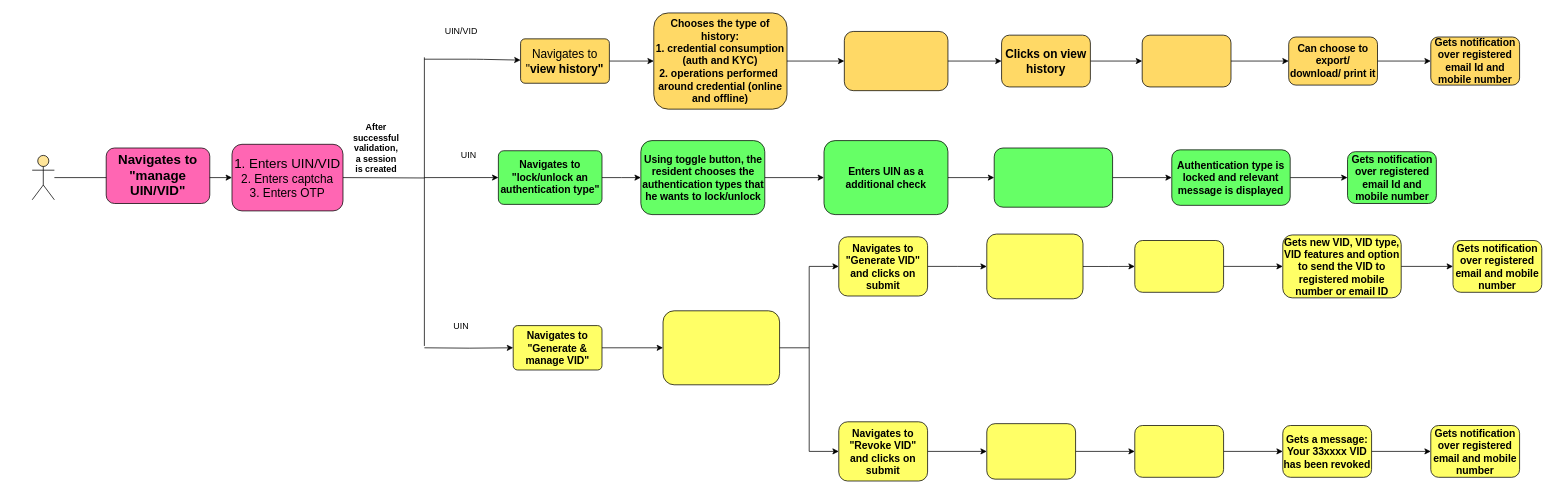
This 1555x494 diagram has some shape labels left out. Here are the shapes that lost their labels. From the top down, the box of each, then its label:
(844, 31, 948, 91): Chooses the date window of history (from and to)
(1141, 34, 1231, 87): History is displayed for the chosen date window
(31, 155, 54, 200): The resident
(993, 147, 1113, 207): Accepts consent to lock/unlock authentication type
(986, 233, 1083, 299): Chooses the type of VID 1. Perpetual VID 2. One-time VID 3. Temporary VID
(1134, 240, 1224, 292): Clicks on "Submit" button
(662, 310, 780, 385): Chooses from the following 1. Generate VID 2. Revoke VID
(986, 423, 1076, 479): Chooses from the list of active masked VIDs
(1134, 425, 1224, 477): Accepts consent and Clicks on "revoke VID" button
